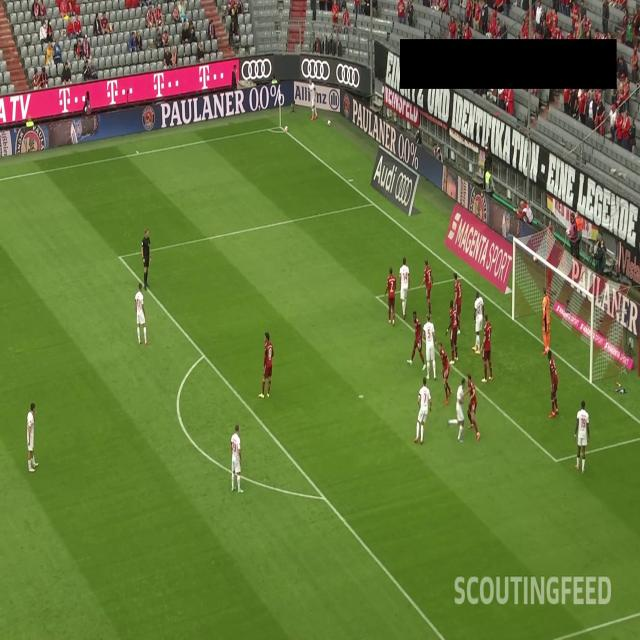ball: (283, 122, 291, 135)
player: (406, 306, 428, 376), (447, 378, 468, 444), (227, 420, 245, 496), (413, 374, 432, 444), (134, 281, 151, 348), (436, 339, 452, 406), (471, 286, 486, 356), (574, 399, 588, 473), (258, 330, 272, 403), (423, 316, 438, 382), (26, 402, 40, 472), (544, 352, 559, 416), (466, 372, 480, 440), (540, 287, 554, 355), (446, 297, 460, 364), (481, 310, 493, 382), (397, 251, 408, 320), (420, 256, 432, 319), (384, 267, 396, 329), (452, 270, 463, 334), (306, 75, 318, 121)
referee: (139, 227, 152, 289)
